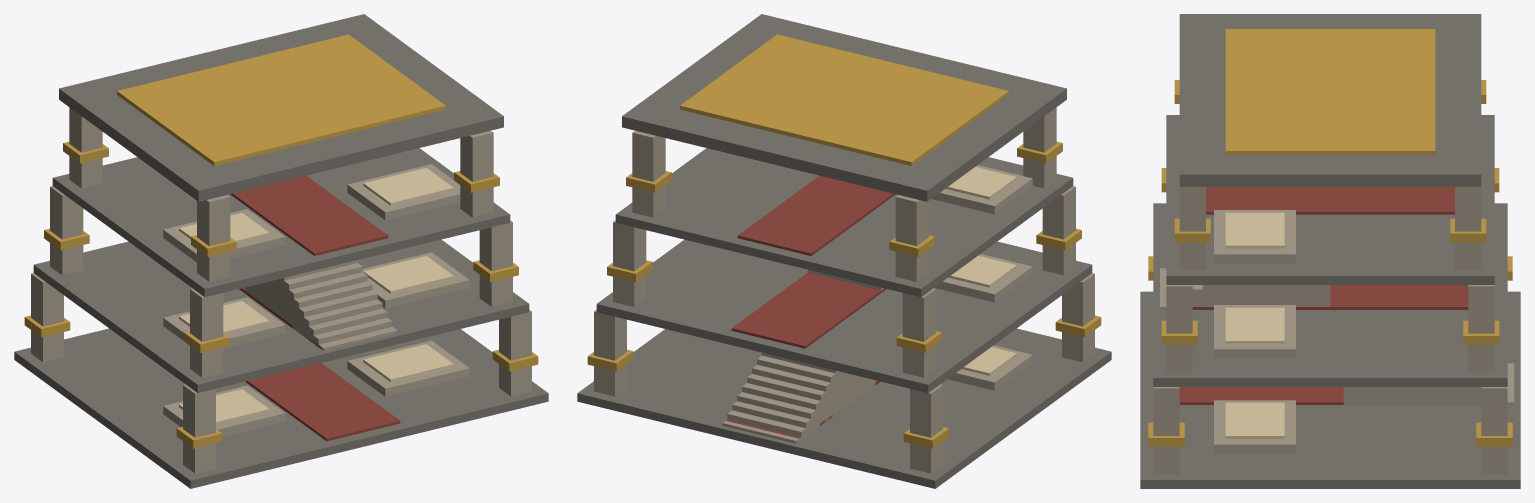
The model's file is KLC_PlotVariant_02_StoneAtrium.fbx.
The picture shows the model from 3 angles, left to right: view 1: azimuth 30°, elevation 25°; view 2: azimuth 150°, elevation 25°; view 3: azimuth 270°, elevation 25°; orthographic projection. The views are drawn at different scales.
Parts seen in each view (by area): view 1: V02_Floor_1, V02_Roof, V02_RoofInset, V02_Floor_2, V02_Floor_3, V02_Inlay_3, V02_Inlay_1, V02_Column_2_1, V02_Column_3_1, V02_Column_3_3, V02_Podium_1_1, V02_Column_1_1 (+24 smaller); view 2: V02_Floor_1, V02_Floor_2, V02_Roof, V02_RoofInset, V02_Floor_3, V02_Inlay_3, V02_Inlay_2, V02_Column_2_0, V02_Column_3_0, V02_Column_3_2, V02_Column_1_0, V02_Column_2_2 (+17 smaller); view 3: V02_Floor_1, V02_RoofInset, V02_Roof, V02_Floor_2, V02_Floor_3, V02_Inlay_3, V02_Inlay_2, V02_Inlay_1, V02_Podium_2_1, V02_Podium_3_1, V02_Podium_1_1, V02_PodiumTop_1_1 (+14 smaller).
Part boxes in pixels (x1,y1,x2,y2): V02_Floor_1: (14, 328, 548, 488); V02_Roof: (59, 14, 503, 201); V02_RoofInset: (117, 34, 445, 165); V02_Floor_2: (33, 239, 529, 392); V02_Floor_3: (52, 148, 510, 296); V02_Inlay_3: (230, 175, 388, 255); V02_Inlay_1: (245, 363, 400, 441); V02_Column_2_1: (190, 288, 223, 377); V02_Column_3_1: (197, 195, 230, 281); V02_Column_3_3: (460, 130, 493, 217); V02_Podium_1_1: (347, 340, 469, 396); V02_Column_1_1: (183, 384, 215, 473); V02_Floor_1: (577, 328, 1111, 488); V02_Floor_2: (596, 239, 1092, 392); V02_Roof: (622, 14, 1066, 201); V02_RoofInset: (680, 34, 1008, 165); V02_Floor_3: (615, 148, 1073, 296); V02_Inlay_3: (737, 175, 895, 255); V02_Inlay_2: (731, 272, 886, 348); V02_Column_2_0: (902, 288, 935, 377); V02_Column_3_0: (895, 195, 928, 281); V02_Column_3_2: (632, 130, 665, 217); V02_Column_1_0: (910, 384, 942, 473); V02_Column_2_2: (613, 220, 646, 306); V02_Floor_1: (1140, 291, 1520, 488); V02_RoofInset: (1225, 29, 1435, 155); V02_Roof: (1179, 14, 1481, 186); V02_Floor_2: (1153, 203, 1507, 386); V02_Floor_3: (1166, 115, 1494, 284); V02_Inlay_3: (1206, 186, 1454, 214); V02_Inlay_2: (1192, 285, 1468, 309); V02_Inlay_1: (1179, 387, 1480, 404); V02_Podium_2_1: (1214, 305, 1295, 358); V02_Podium_3_1: (1214, 210, 1295, 263); V02_Podium_1_1: (1214, 400, 1295, 453); V02_PodiumTop_1_1: (1225, 402, 1284, 438).
Bounding box in the file's own units: 1700 × 1281 × 1450.
Materials: 5 (5 with a texture image).
